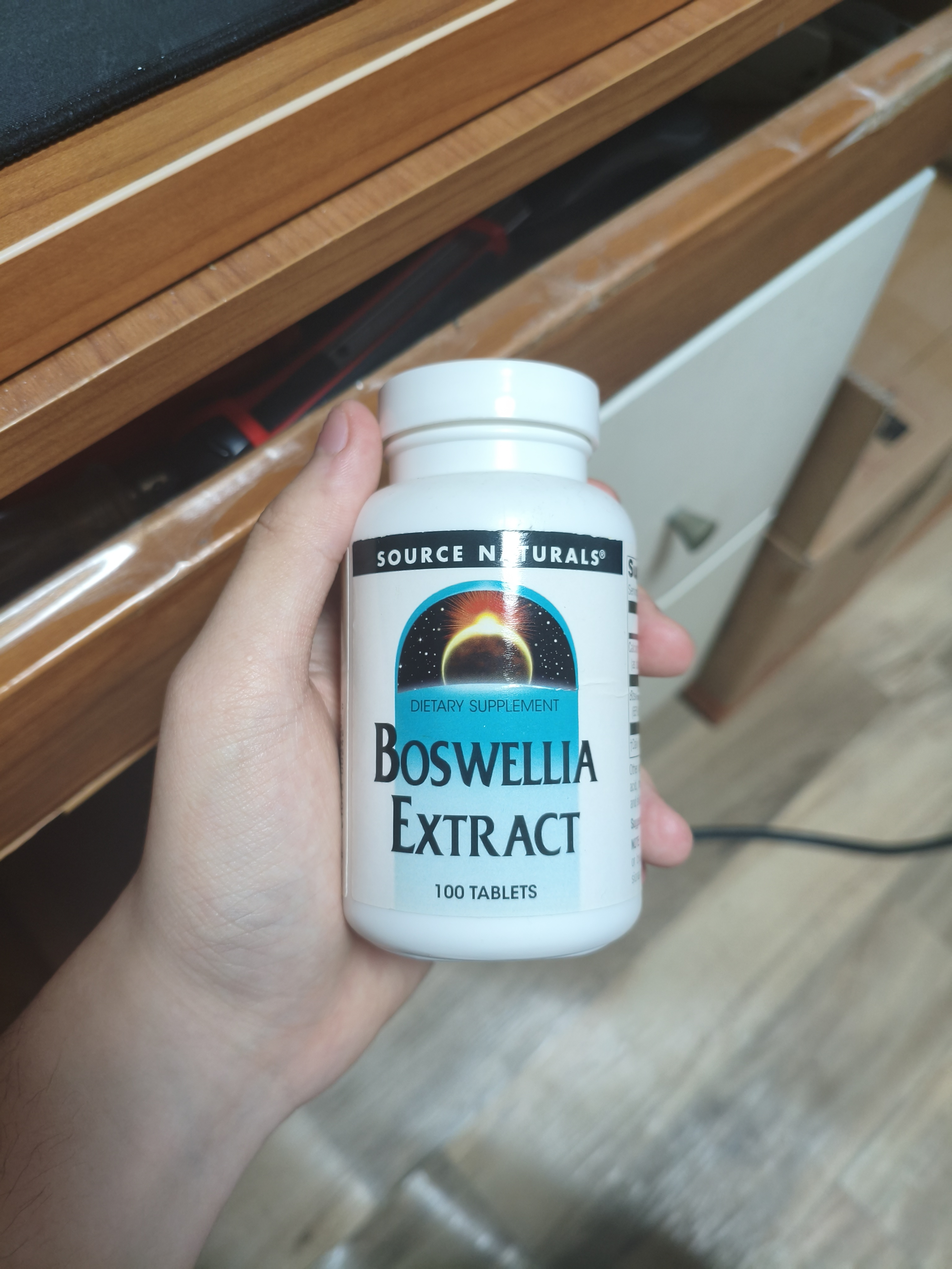supplement_label: (325, 520, 655, 937)
